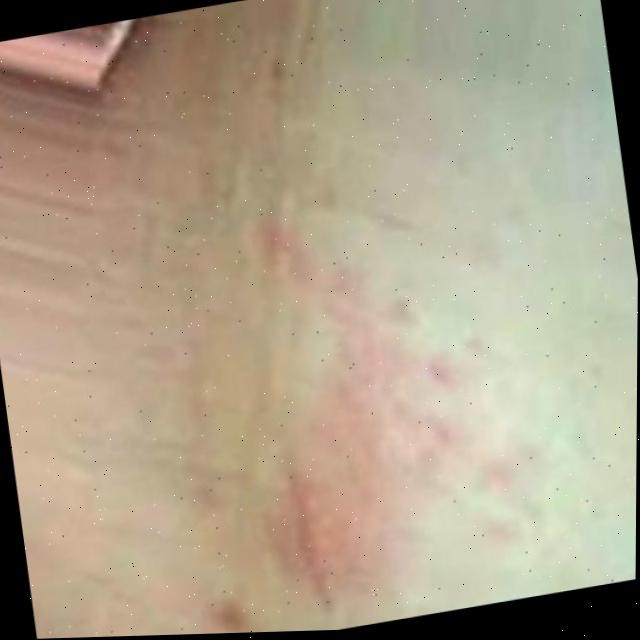Shingles: (239, 310, 496, 609)
